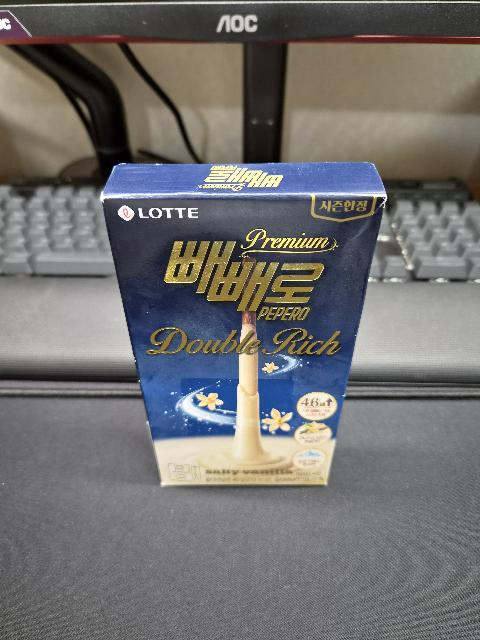pepero: (100, 161, 387, 488)
